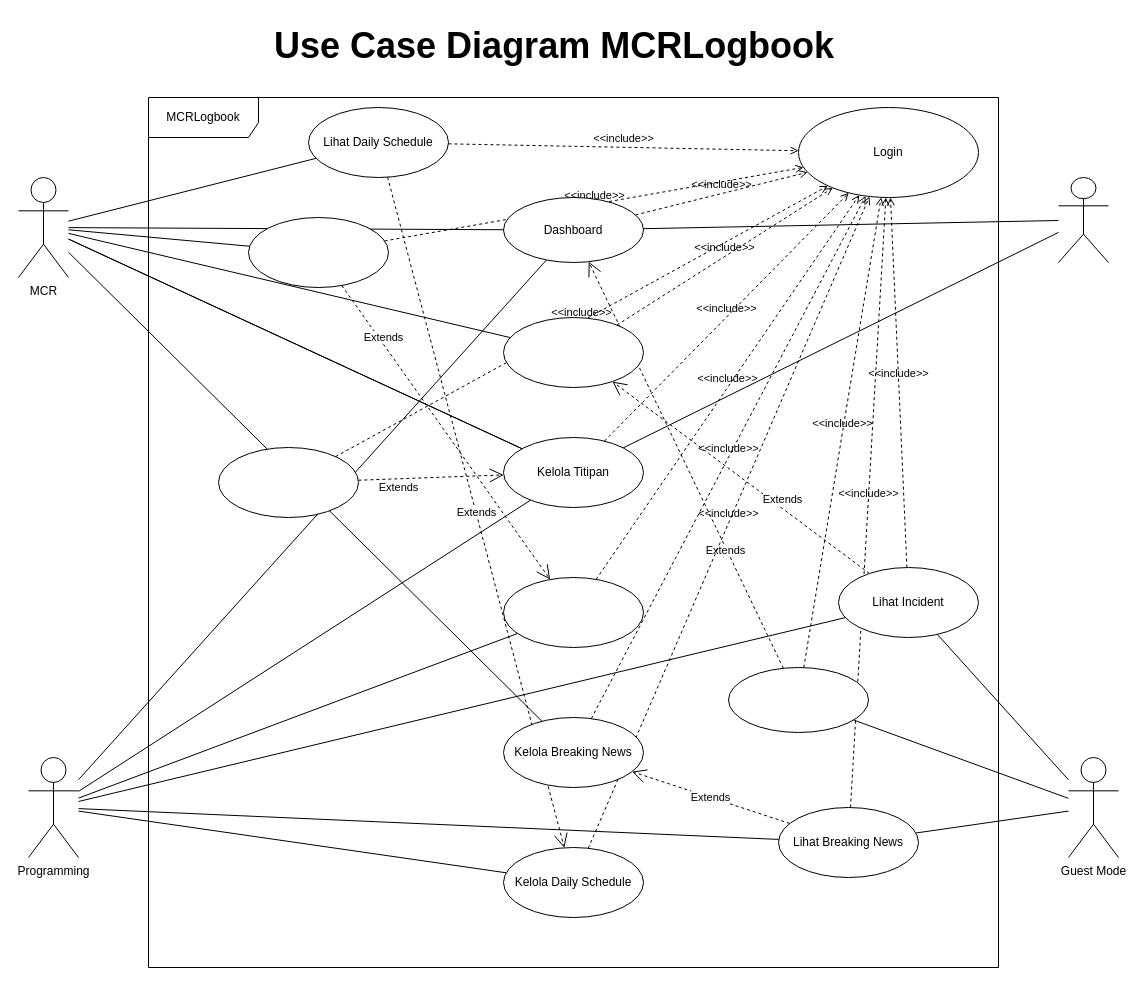
Some shapes in this 1143 by 985 pixel diagram are drawn without their labels. The shapes that lost their labels are listed below. From the top down, each one's box as (x1, y1, x2, y2) in pixels, then its label:
(1058, 176, 1108, 262): Other
(248, 216, 388, 288): Lihat Playlist Dangdut
(502, 316, 644, 388): Kelola Incident
(218, 446, 358, 518): Riwayat Titipan
(502, 576, 644, 648): Kelola Playlist Dangdut
(728, 666, 868, 732): Chronological Log
